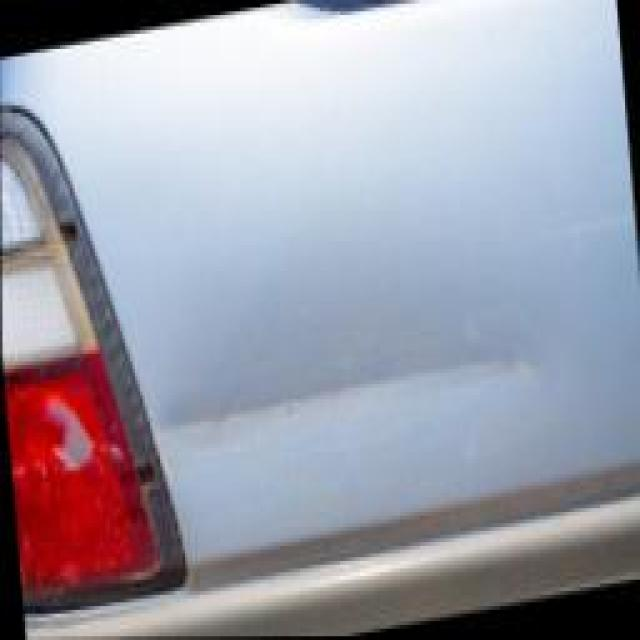Dickey: (132, 290, 573, 497)
Light: (5, 354, 138, 555)
